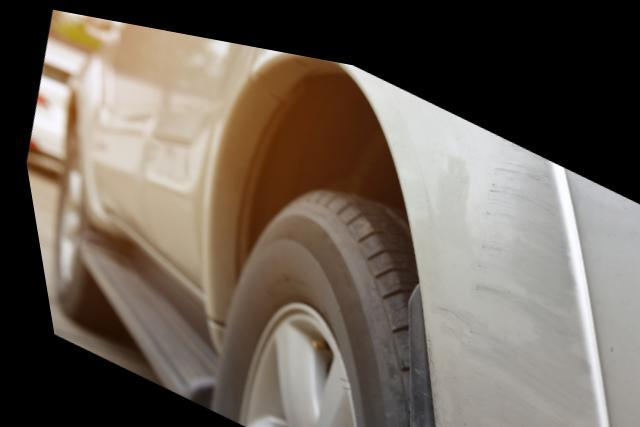rub: (421, 117, 582, 427)
